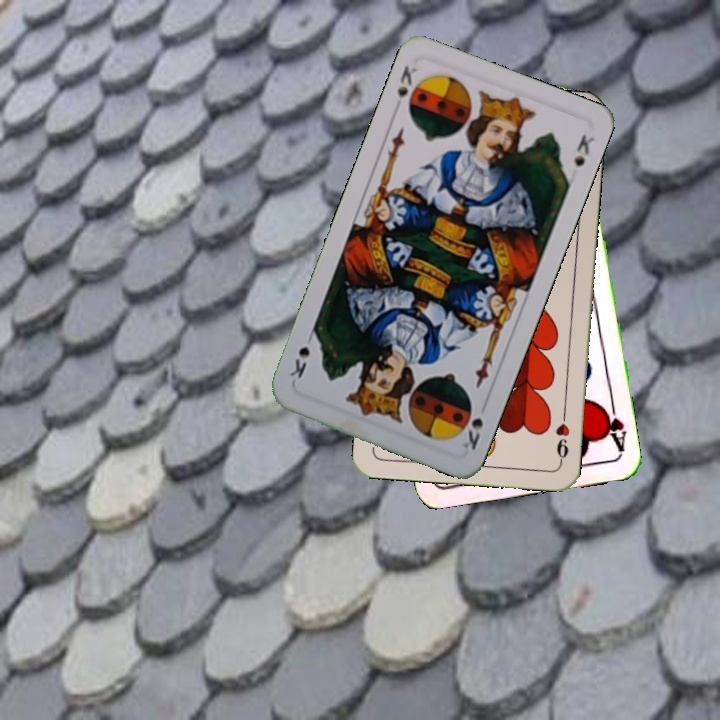H9: (551, 406, 573, 465)
HA: (598, 396, 629, 455)
SK: (457, 397, 486, 453), (392, 61, 420, 115)
